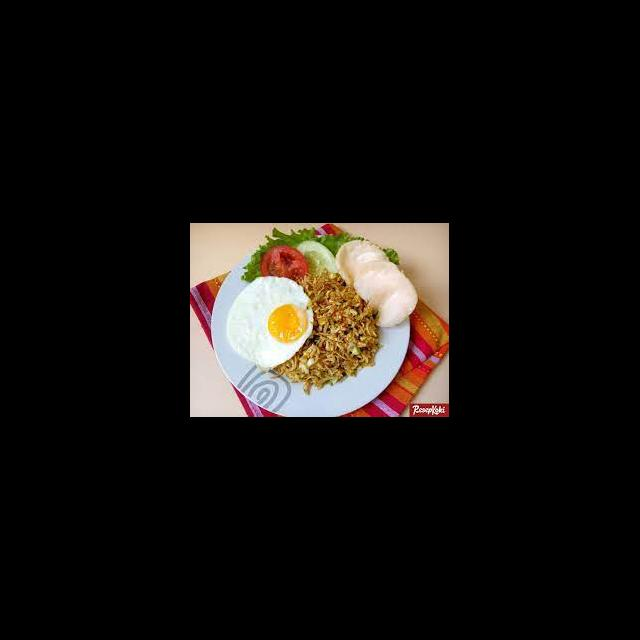food_waste: (263, 292, 358, 375)
